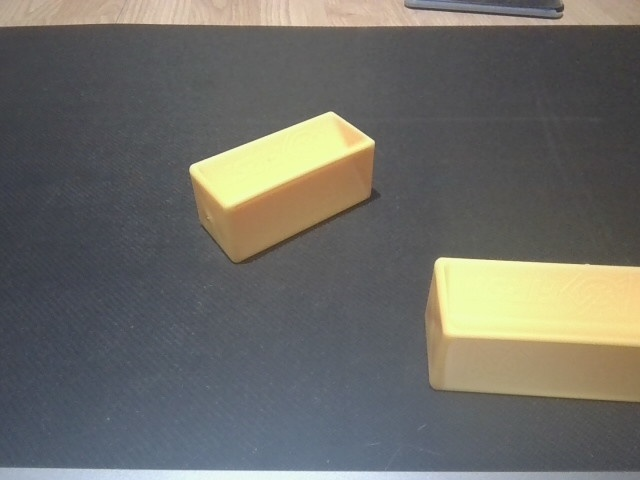YellowSample: (420, 252, 640, 408), (185, 107, 378, 267)
